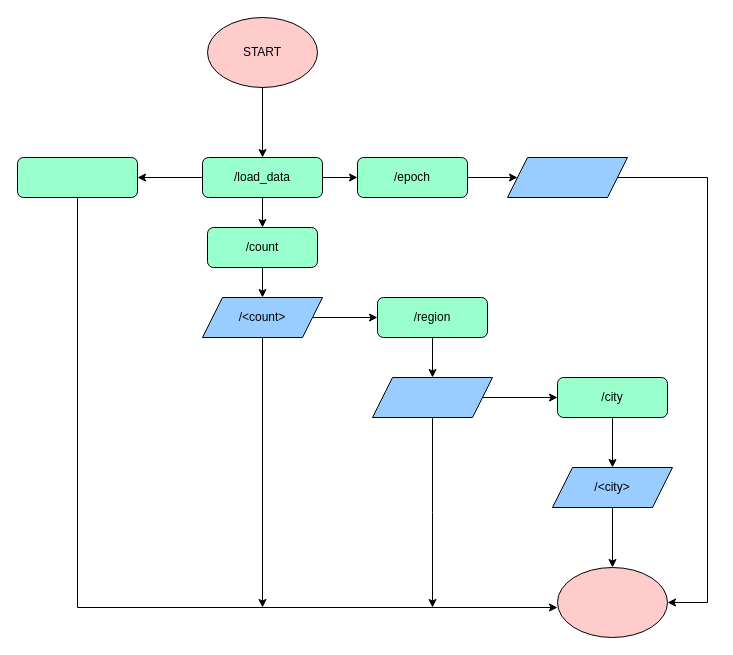
Image size: 733x655. Some labels were removed from this diagram. Here are the shapes that lost their labels. From the top down, the centre of each, then its label:
At point 77,177: "/help".
At point 567,177: "/<epoch>".
At point 432,397: "/<region>".
At point 612,602: "END".
